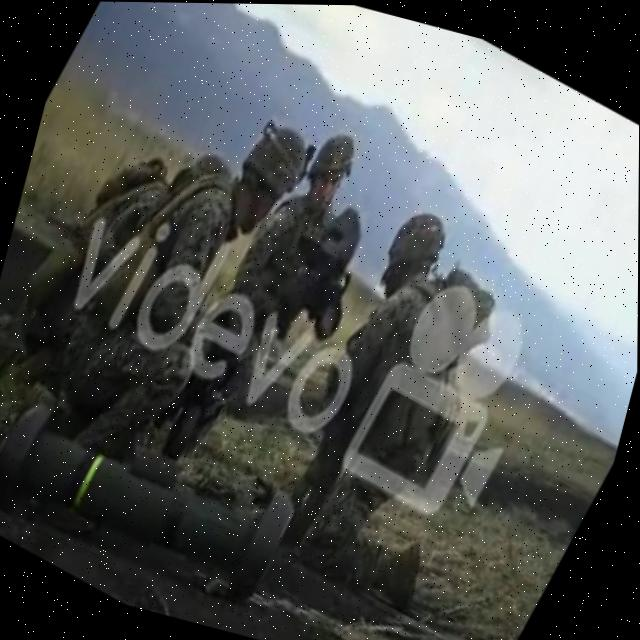rocket: (0, 352, 317, 636)
